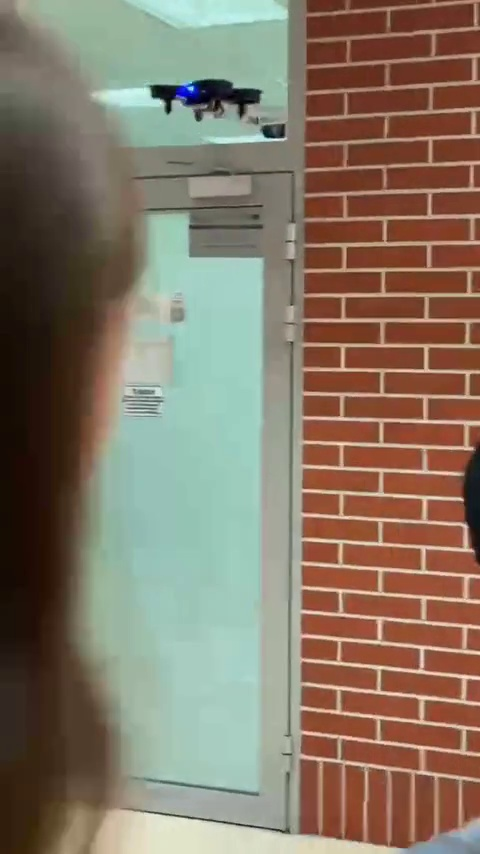drone: (143, 79, 261, 124)
